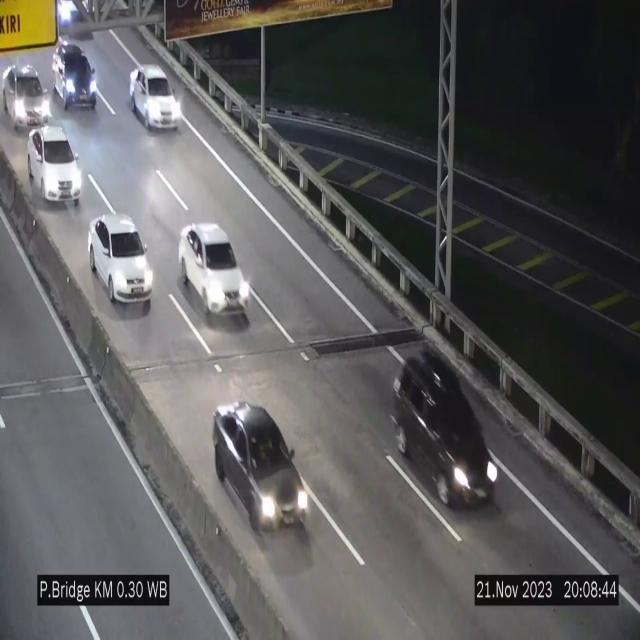Car: (397, 346, 496, 509), (213, 402, 310, 530), (179, 223, 249, 316), (89, 214, 153, 306), (28, 124, 82, 206), (51, 38, 103, 116), (0, 58, 46, 140), (129, 64, 182, 130)
